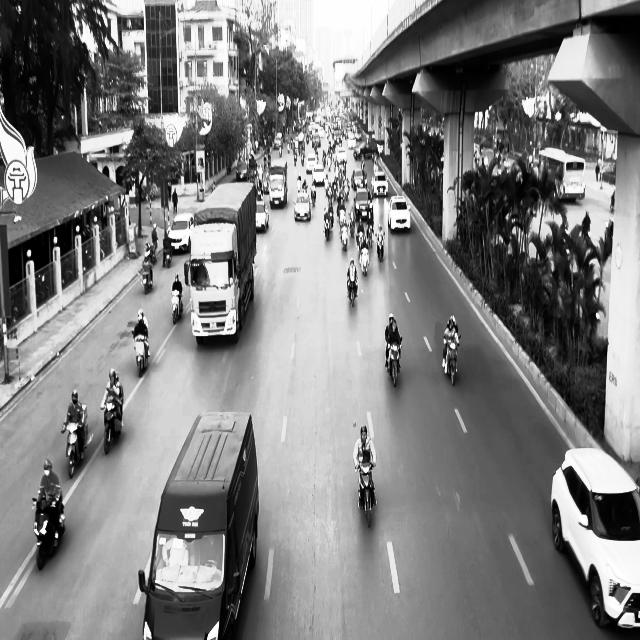bus: (537, 146, 586, 202)
car: (550, 446, 640, 630), (167, 212, 194, 254), (387, 195, 411, 232), (293, 193, 311, 222)
motorbike: (32, 491, 65, 570), (61, 405, 89, 479), (355, 460, 377, 528), (100, 395, 123, 454), (442, 334, 460, 385), (385, 337, 402, 387), (132, 329, 149, 377), (171, 288, 183, 324), (142, 258, 153, 294), (347, 274, 358, 307)
truck: (138, 411, 259, 638), (183, 181, 257, 345)
